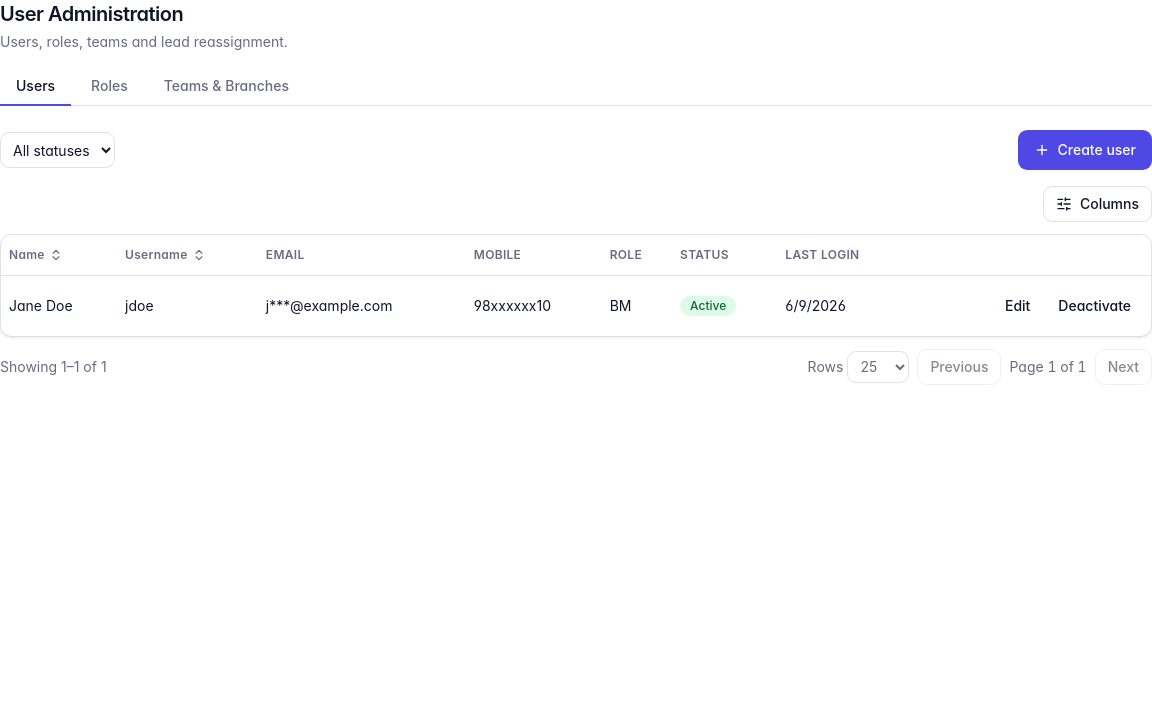
Test: UserAdminPage › opens the create-user modal with the form fields
The width and height of the screenshot is (1152, 720).
Click the button "Create user": (1085, 150) top-left (1018, 130), bottom-right (1151, 170)
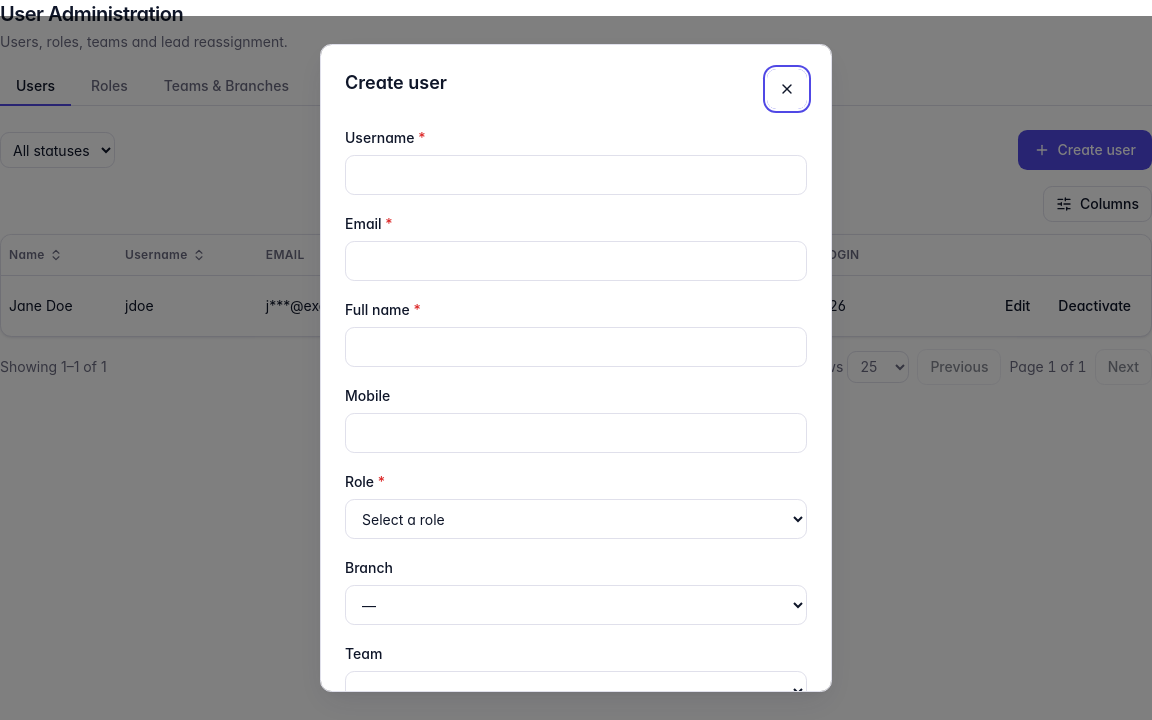
Check: the field labelled "Username *" is shown, box top-left (345, 155), bottom-right (807, 195)
Check: the field labelled "Email *" is shown, box top-left (345, 241), bottom-right (807, 281)
